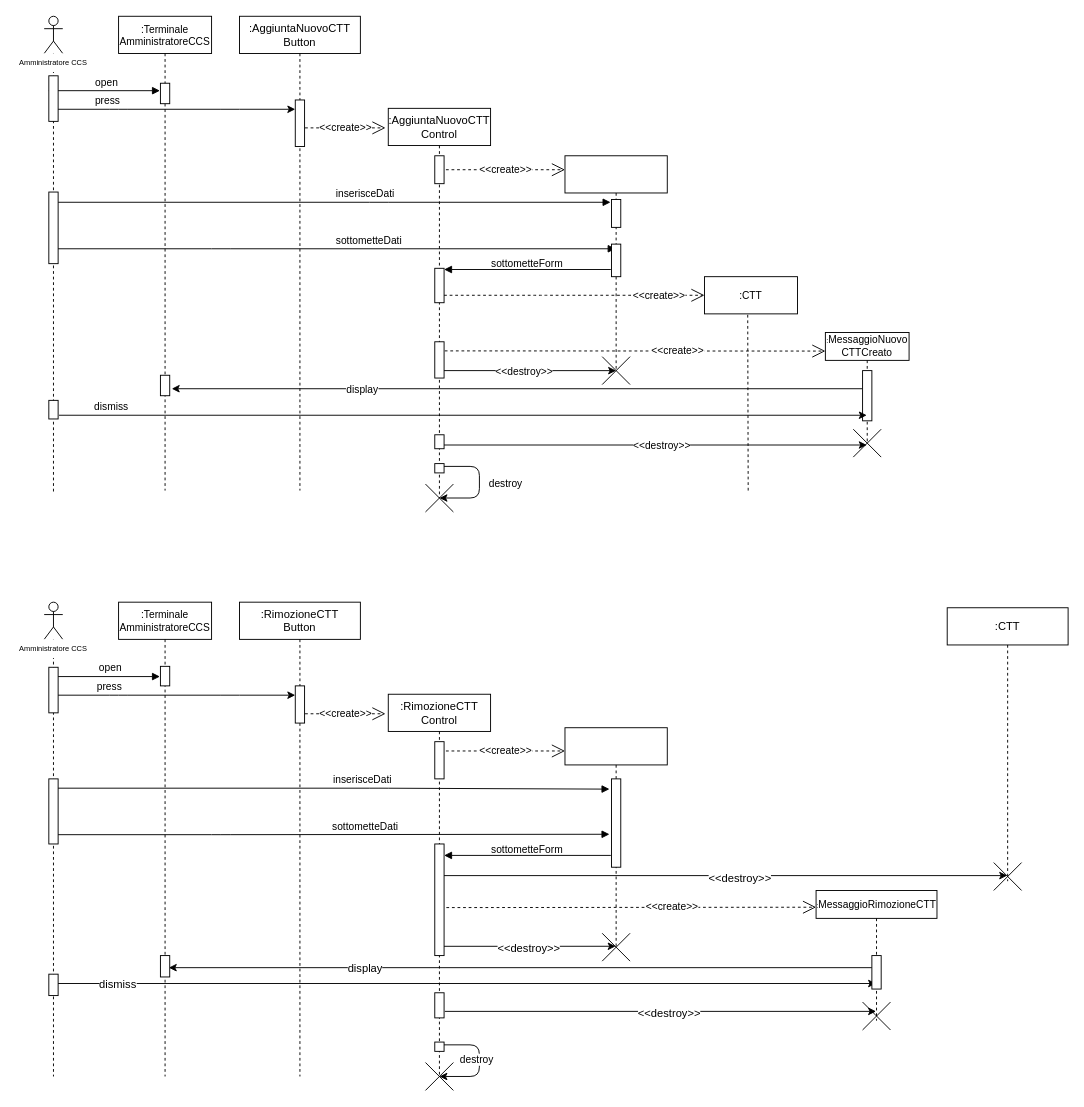
Some shapes in this 1084 by 1107 pixel diagram are drawn without their labels. The shapes that lost their labels are listed below. From the top down, each one's centre as x and y in pixels, then its label:
At (x=615, y=262): ":AggiuntaNuovoCTT Form".
At (x=615, y=836): ":RimozioneCTT Form".
